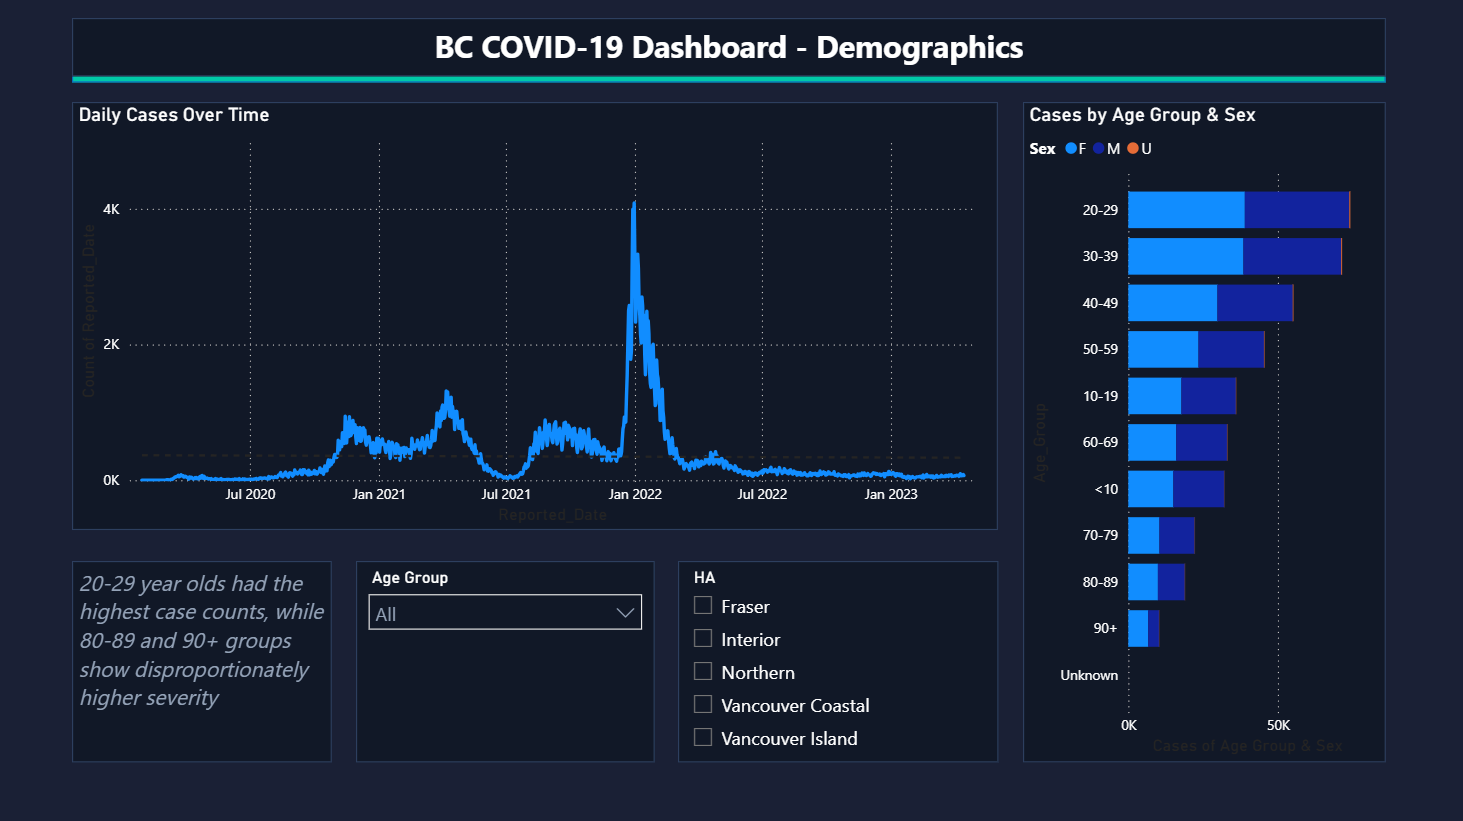

What the dashboard file says about the page in this screenshot:
{"tool":"powerbi","page":{"name":"Page 2","canvas":[1280,720],"ordinal":1},"visuals":[{"type":"barChart","title":"Cases by Age Group & Sex","fields":{"Category":["BCCDC_COVID19_Dashboard_Case_Details.Age_Group"],"Y":["CountNonNull(BCCDC_COVID19_Dashboard_Case_Details.Reported_Date)"],"Series":["BCCDC_COVID19_Dashboard_Case_Details.Sex"]},"box":[893.9,89.5,317.1,576.8],"z":0},{"type":"lineChart","title":"Daily Cases Over Time","fields":{"Y":["CountNonNull(BCCDC_COVID19_Dashboard_Case_Details.Reported_Date)"],"Category":["BCCDC_COVID19_Dashboard_Case_Details.Reported_Date"]},"box":[63.2,89.5,809.2,374.5],"z":1000},{"type":"slicer","fields":{"Values":["BCCDC_COVID19_Dashboard_Case_Details.Age_Group"]},"box":[311.2,490.2,260.7,176.1],"z":2000},{"type":"slicer","fields":{"Values":["BCCDC_COVID19_Dashboard_Case_Details.HA"]},"box":[592.3,490.2,280.1,176.1],"z":3000},{"type":"shape","box":[63.2,59.3,1147.7,12.6],"z":3001},{"type":"textbox","box":[63.2,15.6,1147.7,50.6],"z":3002},{"type":"textbox","box":[63.2,490.2,226.6,176.1],"z":3003}]}

Visuals, with their boxes in screenshot pixels (x1, y1, x2, y2), scaled from the page's 1280x720 canvas onto the 1463x821 screenshot:
"Cases by Age Group & Sex" barChart: select_region(1022, 102, 1384, 760)
"Daily Cases Over Time" lineChart: select_region(72, 102, 997, 529)
slicer - BCCDC_COVID19_Dashboard_Case_Details.Age_Group: select_region(356, 559, 654, 760)
slicer - BCCDC_COVID19_Dashboard_Case_Details.HA: select_region(677, 559, 997, 760)
shape: select_region(72, 68, 1384, 82)
textbox: select_region(72, 18, 1384, 75)
textbox: select_region(72, 559, 331, 760)
